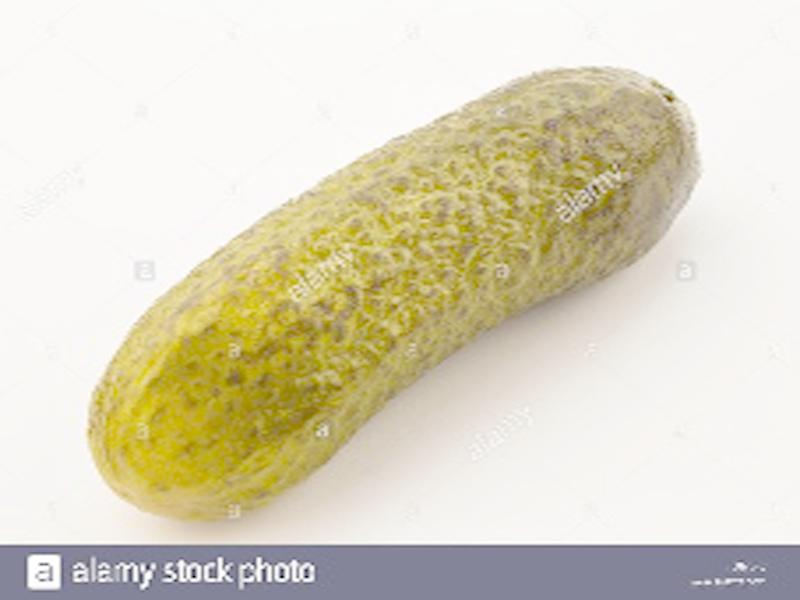Cucumber: (85, 69, 698, 518)
